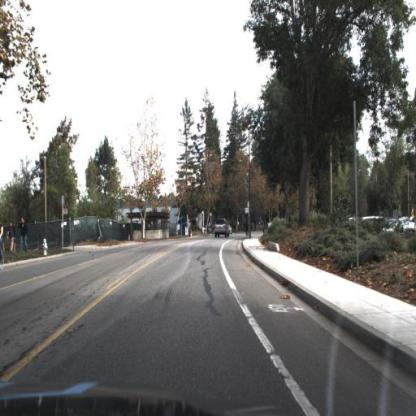biker: (244, 213, 251, 235)
car: (214, 217, 229, 240)
